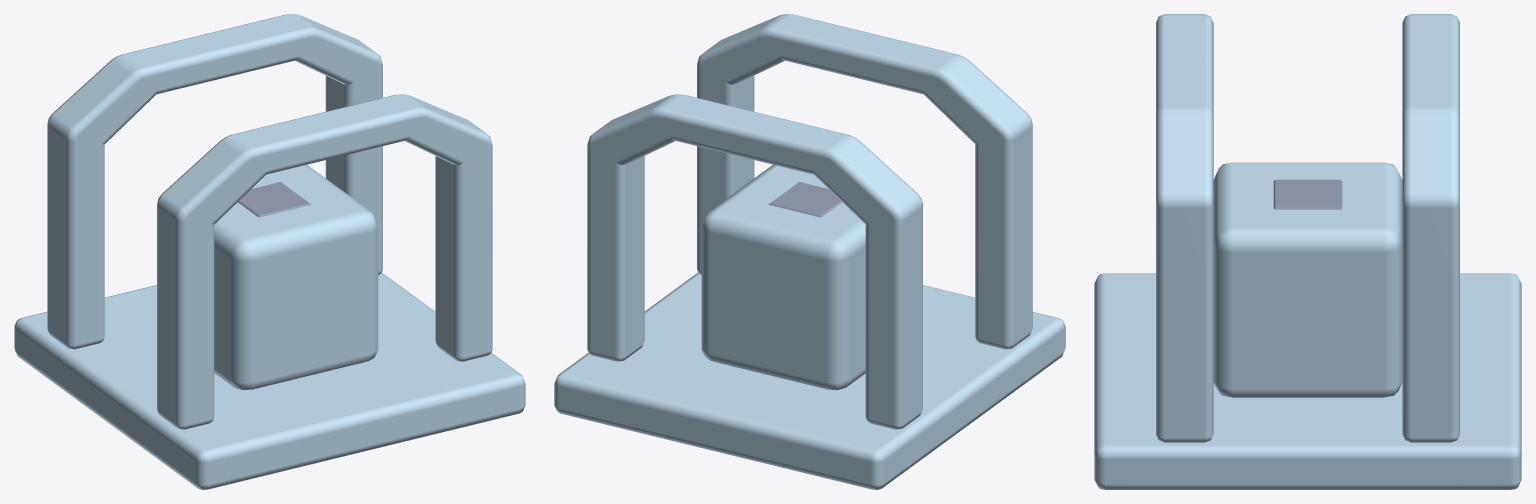
Rendered from R4X_ModuleDurabilityBooster.glb.
The picture shows the model from 3 angles, left to right: view 1: azimuth 30°, elevation 25°; view 2: azimuth 150°, elevation 25°; view 3: azimuth 270°, elevation 25°; orthographic projection. The views are drawn at different scales.
Parts seen in each view (by area): view 1: R4X_ModuleDurabilityBooster_Body; view 2: R4X_ModuleDurabilityBooster_Body; view 3: R4X_ModuleDurabilityBooster_Body.
Part boxes in pixels (left/top/right/bottom): R4X_ModuleDurabilityBooster_Body: left=14, top=14, right=525, bottom=489; R4X_ModuleDurabilityBooster_Body: left=554, top=14, right=1065, bottom=489; R4X_ModuleDurabilityBooster_Body: left=1094, top=14, right=1521, bottom=489.
Size of the model in its own units: 0.52 by 0.46 by 0.52.
